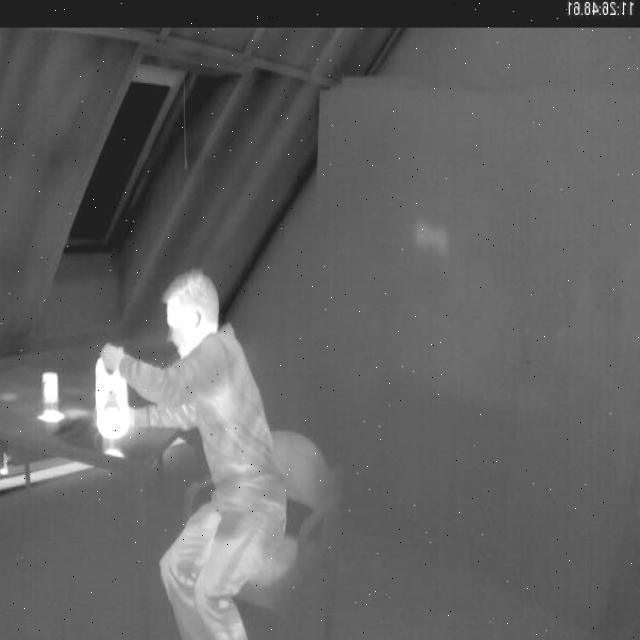person: (99, 261, 297, 640)
